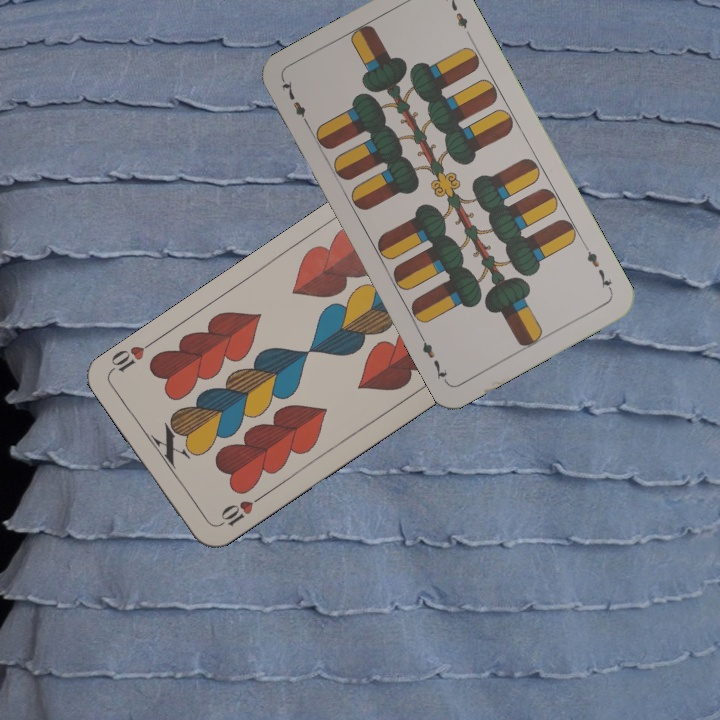E7: (278, 76, 313, 131), (582, 247, 616, 295)
H10: (213, 491, 265, 530)
